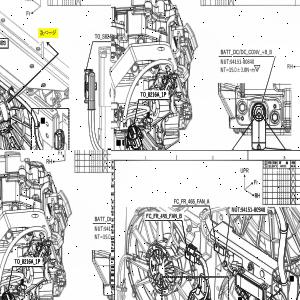PartNumber: (240, 206, 266, 213), (230, 58, 254, 65), (0, 39, 7, 47), (103, 225, 111, 231)
